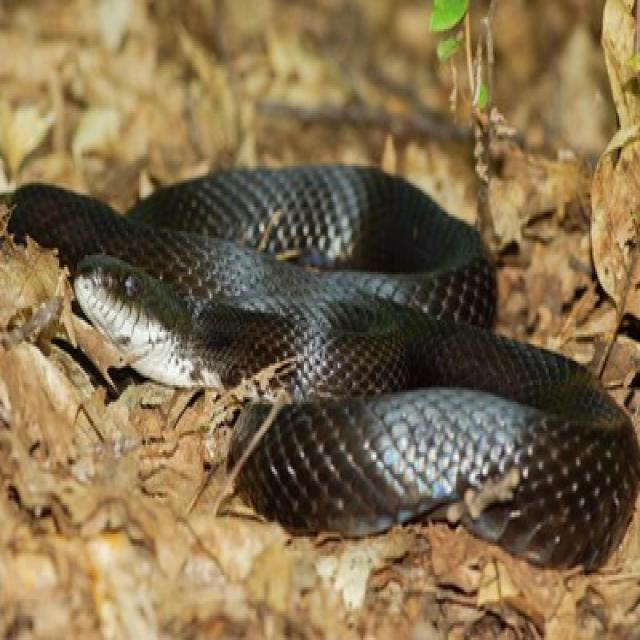Snake: (7, 156, 640, 575)
